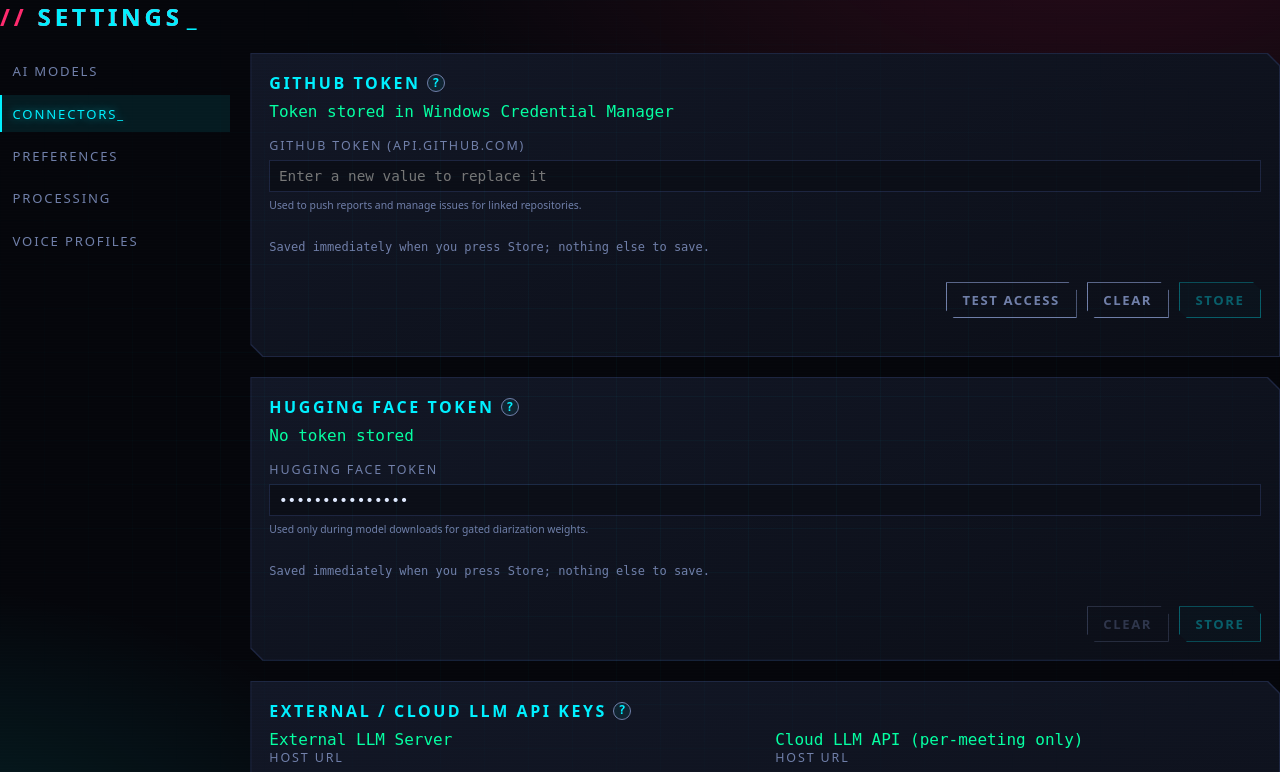
Test: Connectors tab unsaved-change guard › Discard drops the typed token without storing it
In the 2nd password field: (765, 500) [269,484,1261,516], type "hf_exampletoken"
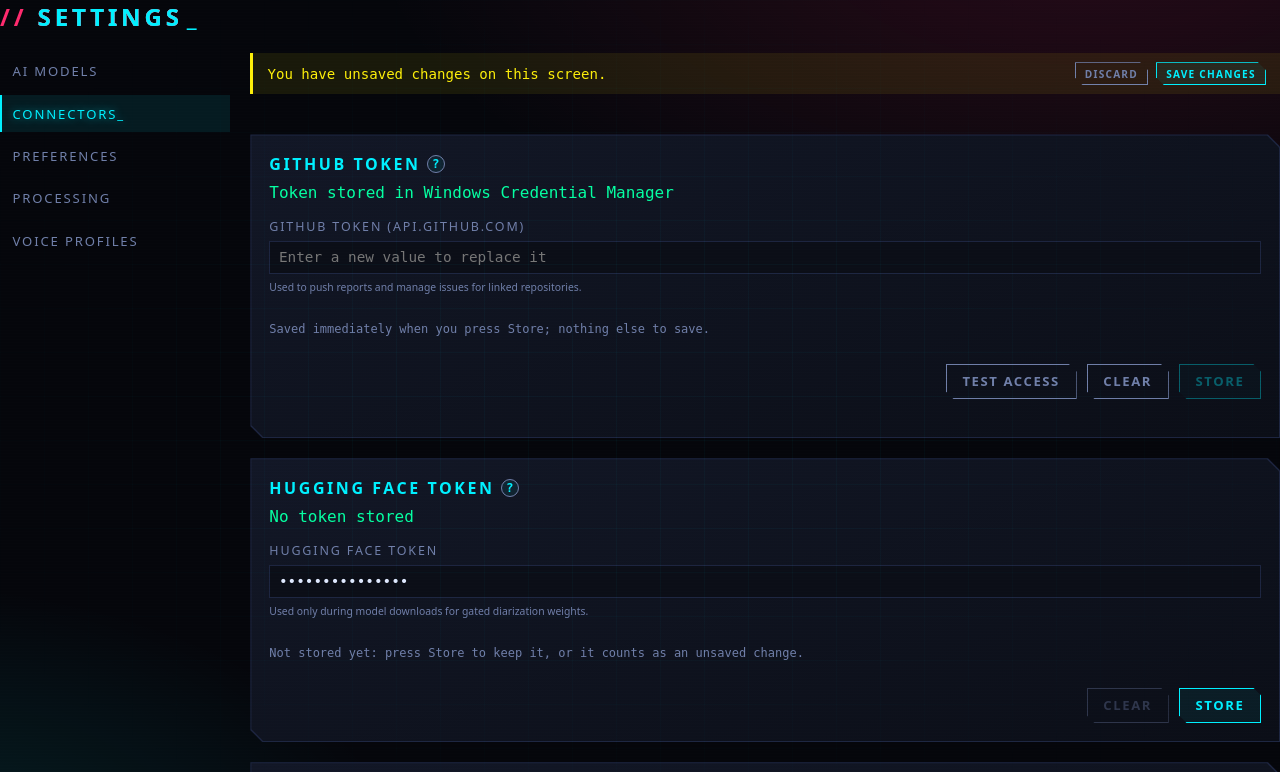
Click the tab "Processing": click(115, 198) [0,180,230,216]
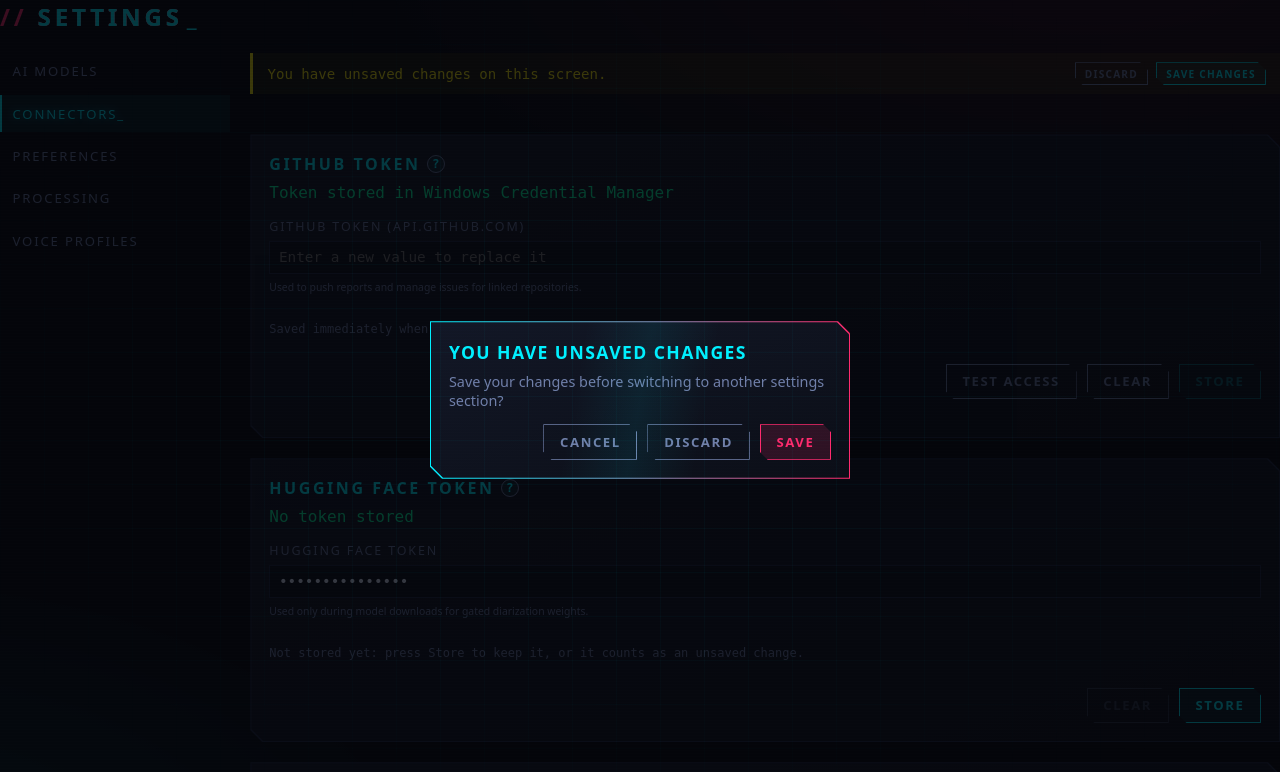
Click the button "Discard": click(699, 442) [648,424,750,460]
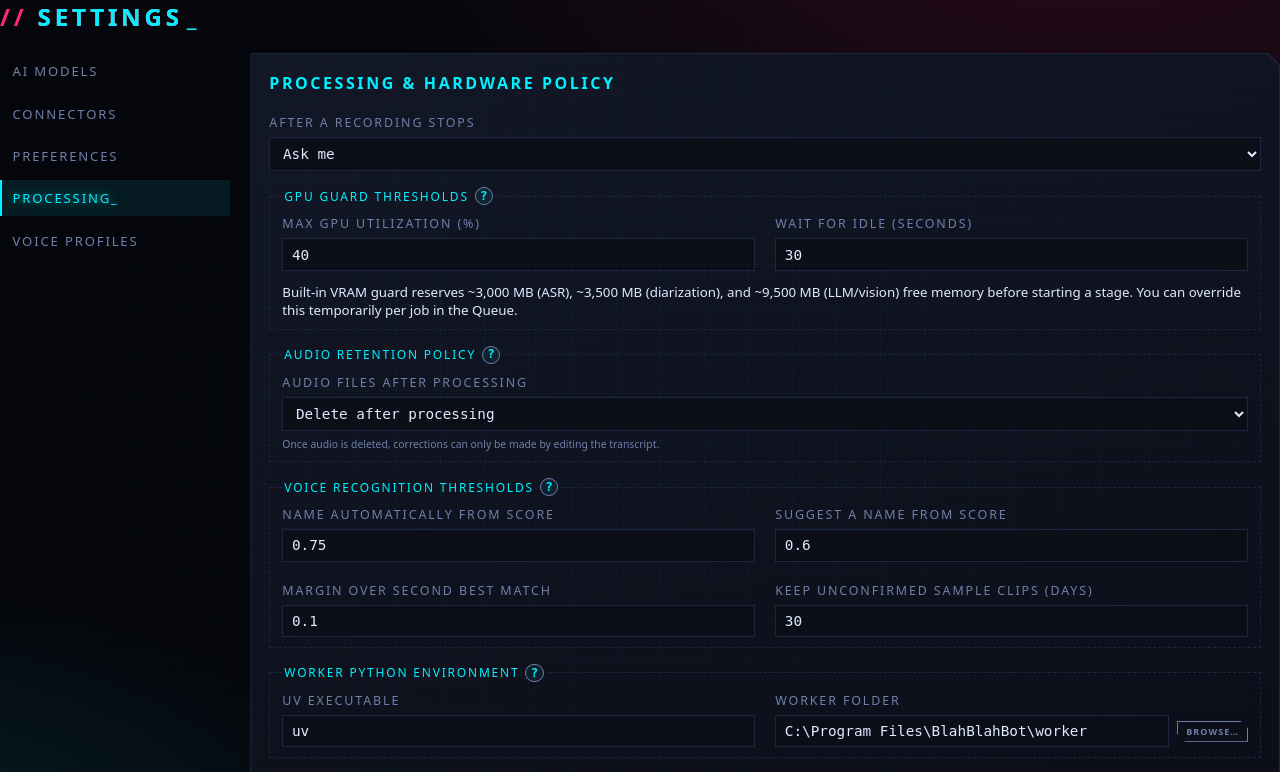
Result: the dialog is gone
